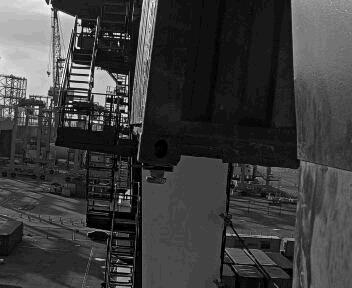twist_lock_1: (116, 159, 157, 189)
